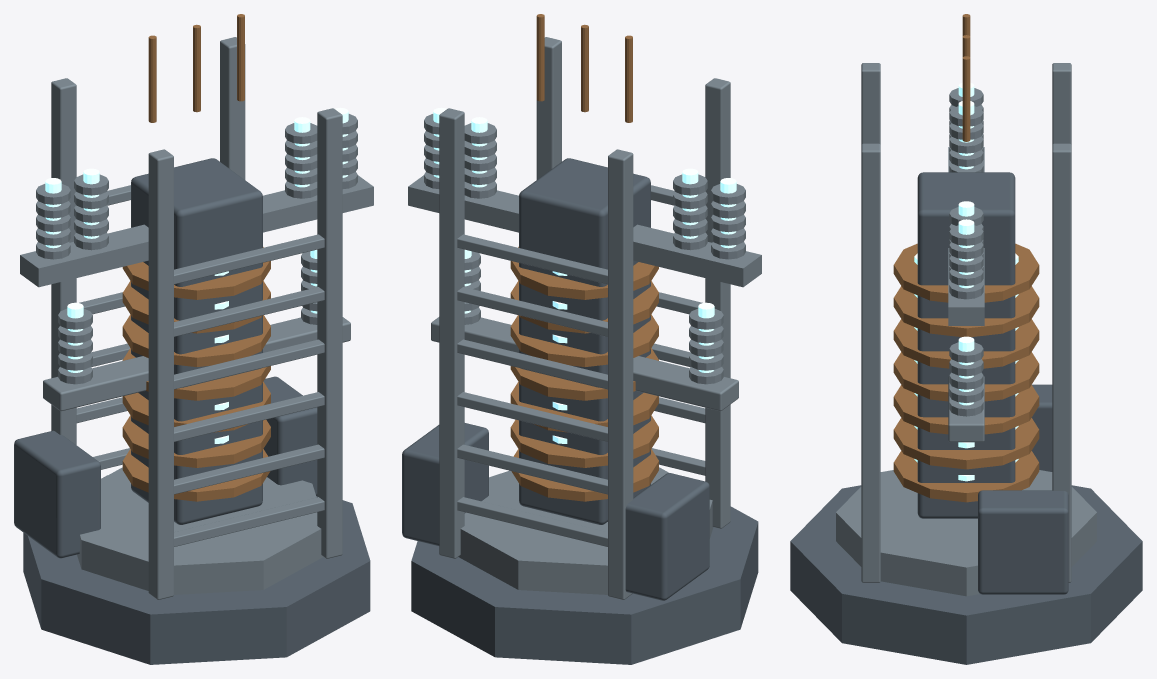
File: relay_t2_d0.glb
3 renders of one model, left to right at view 1: azimuth 30°, elevation 25°; view 2: azimuth 150°, elevation 25°; view 3: azimuth 270°, elevation 25°, orthographic. The views are drawn at different scales.
Visible parts, largest first — view 1: BASE_ARMOR_GEOMETRY, BASE_SIGNAL_GEOMETRY; view 2: BASE_ARMOR_GEOMETRY, BASE_SIGNAL_GEOMETRY; view 3: BASE_ARMOR_GEOMETRY, BASE_SIGNAL_GEOMETRY.
Boxes of the visible parts, x1,y1,x2,y2 form: BASE_ARMOR_GEOMETRY: (14, 14, 373, 664); BASE_SIGNAL_GEOMETRY: (45, 107, 348, 443); BASE_ARMOR_GEOMETRY: (402, 14, 761, 664); BASE_SIGNAL_GEOMETRY: (433, 107, 736, 443); BASE_ARMOR_GEOMETRY: (790, 14, 1142, 664); BASE_SIGNAL_GEOMETRY: (914, 82, 1018, 481).
Size of the model in its own units: 1.67 by 2.69 by 1.55.
